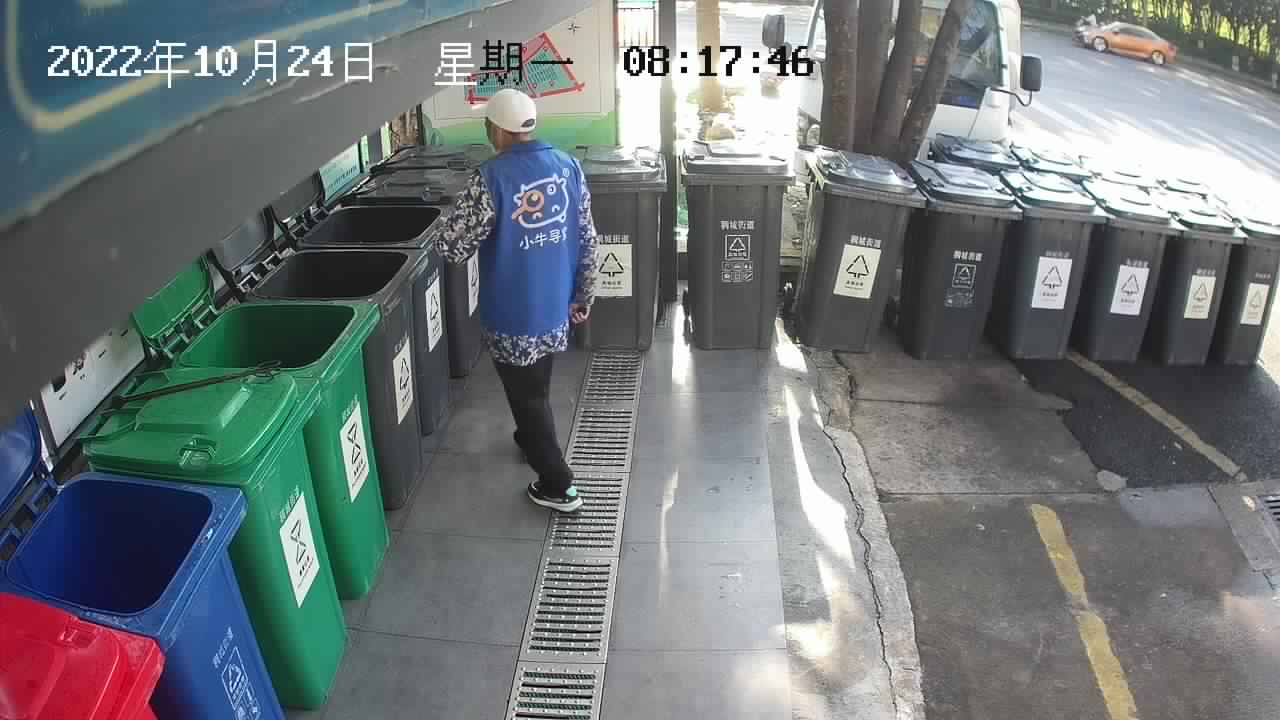worker: (431, 84, 608, 517)
